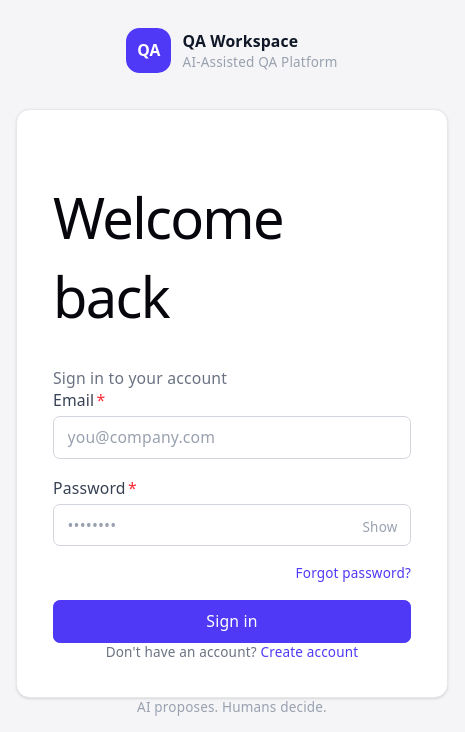
Test: SignInForm › shows a generic banner and focuses it on invalid credentials, preserving entered values
This screenshot has width=465, height=732.
Step 1. Type "alice@example.com" into the field labelled "Email*" → (232, 438), box [53,416,411,459]
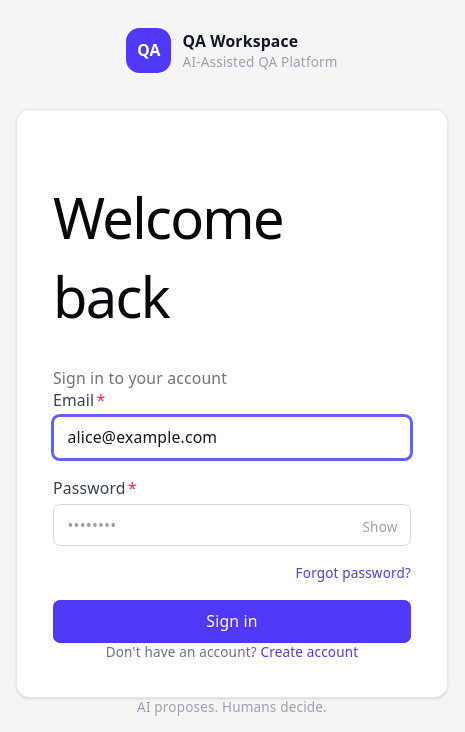
Step 2. Type "a sufficiently long password" into the password field labelled "Password*" → (232, 525), box [53,504,411,546]
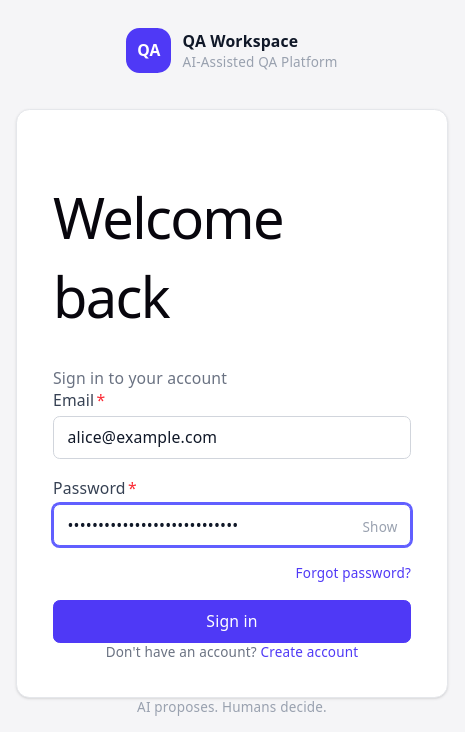
Step 3. Click the button "Sign in" → (232, 622), box [53,600,411,643]
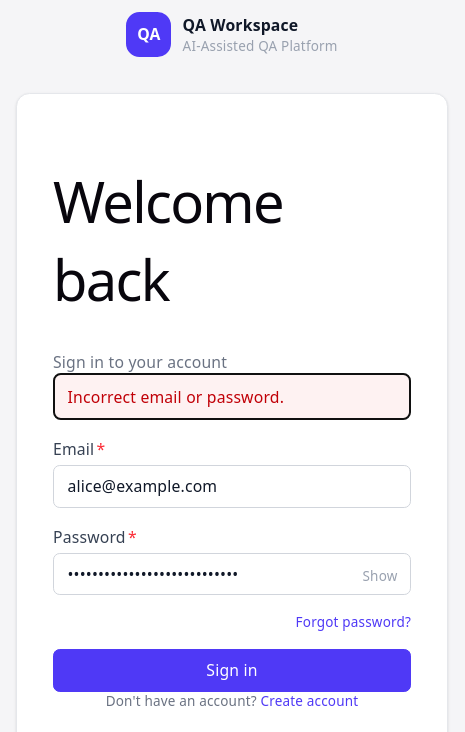
expect the message shows "Incorrect email or password": met, box [68,386,284,408]
